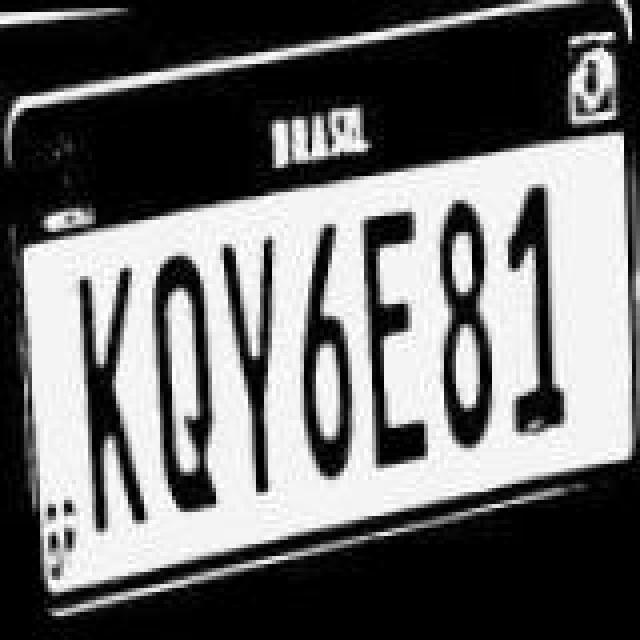1: (500, 176, 572, 448)
6: (294, 218, 366, 502)
8: (428, 192, 500, 476)
E: (348, 212, 440, 504)
K: (64, 258, 148, 542)
Q: (146, 250, 218, 534)
Y: (220, 228, 296, 512)
